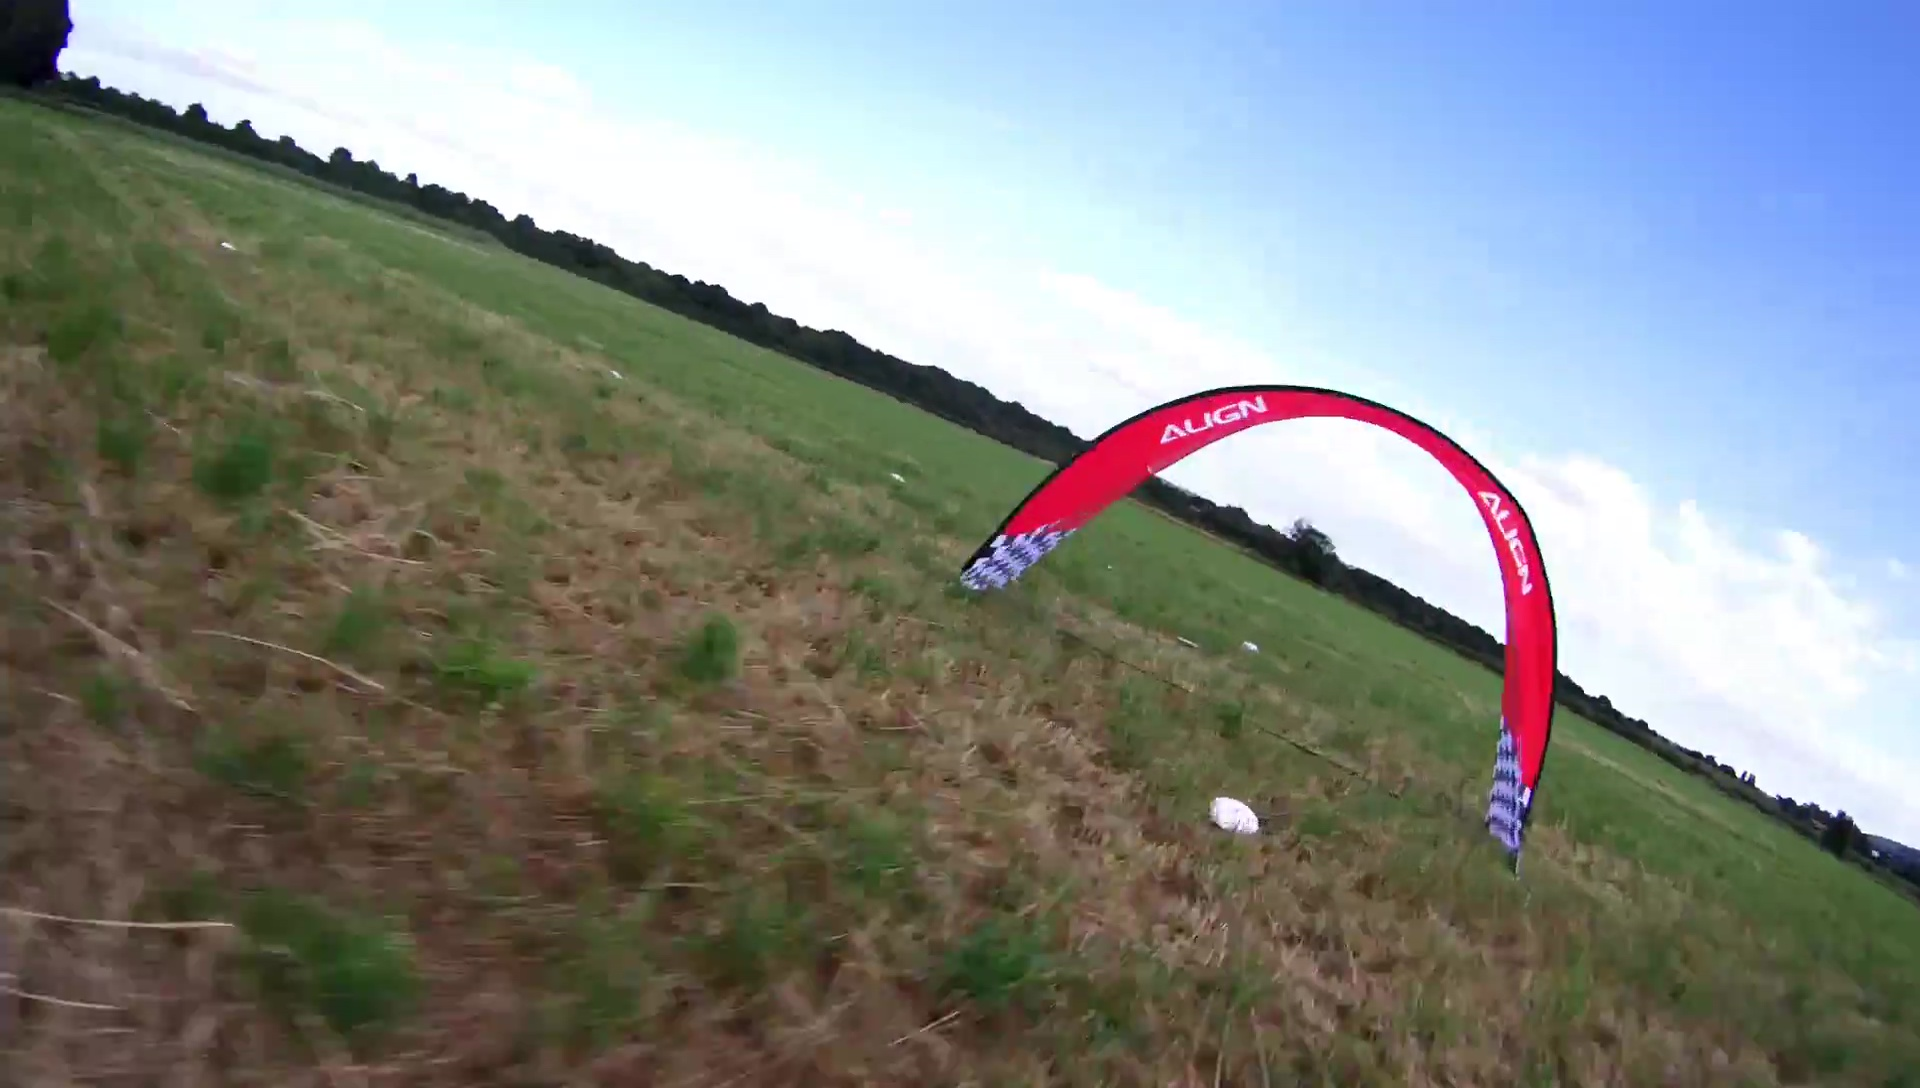gate: (956, 381, 1557, 862)
